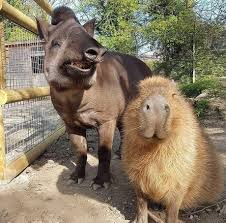capivara: (122, 75, 223, 223)
